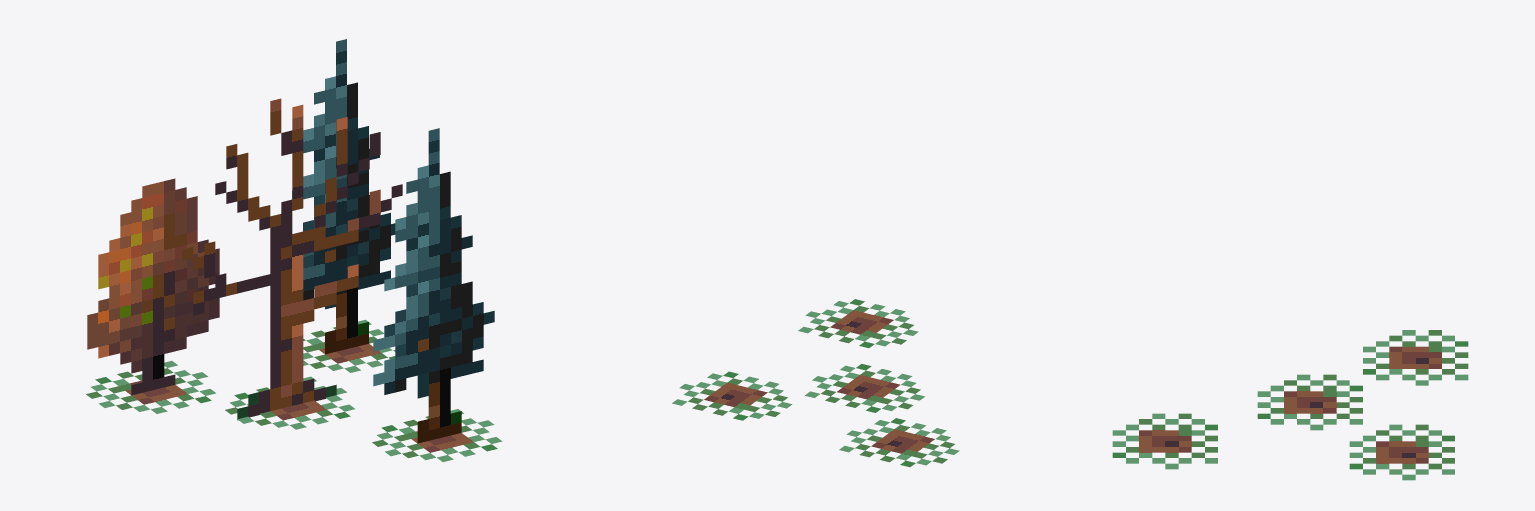
File: tree_bill3.gltf
3 renders of one model, left to right at view 1: azimuth 30°, elevation 25°; view 2: azimuth 150°, elevation 25°; view 3: azimuth 270°, elevation 25°, orthographic. The views are drawn at different scales.
Parts seen in each view (by area): view 1: plane (×5); view 2: plane; view 3: plane.
Boxes of the visible parts, box(x1,y1,x2,y2) form: plane (×5): box(86, 39, 502, 461); plane: box(672, 299, 959, 467); plane: box(1112, 330, 1468, 480).
Bounding box in the file's own units: 2.06 × 1.75 × 2.19.
Materials: 2 (2 with a texture image).
